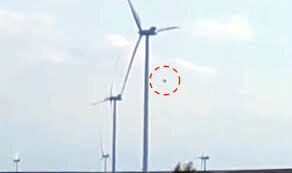faulty: (125, 11, 180, 88)
